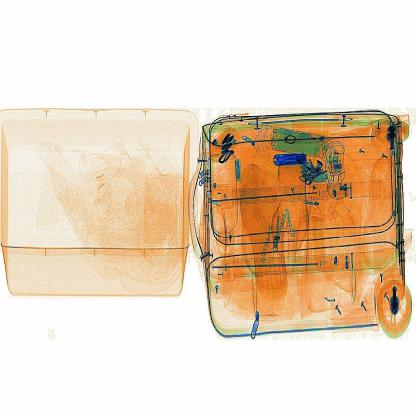knife: (269, 144, 315, 170)
